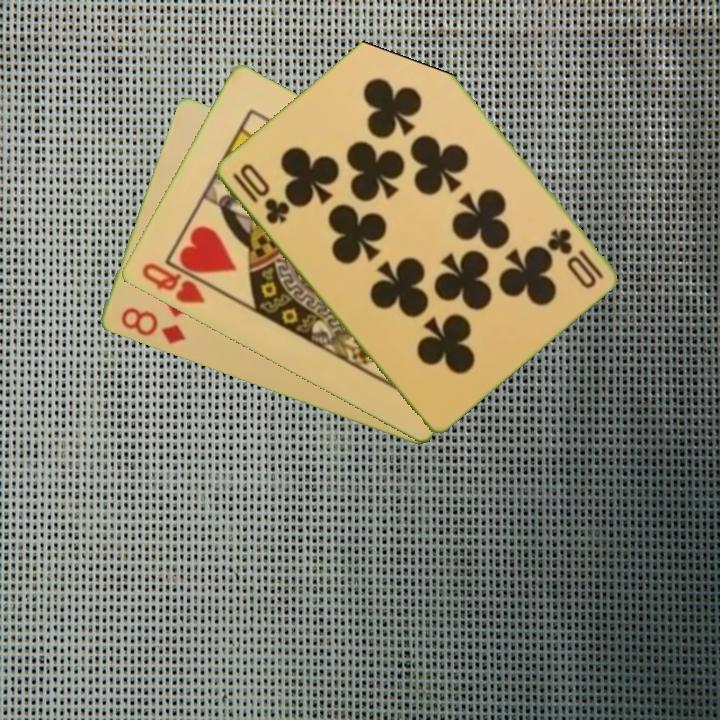10c: (228, 159, 292, 227), (543, 224, 606, 282)
8d: (117, 304, 189, 347)
Qh: (137, 259, 208, 307)
